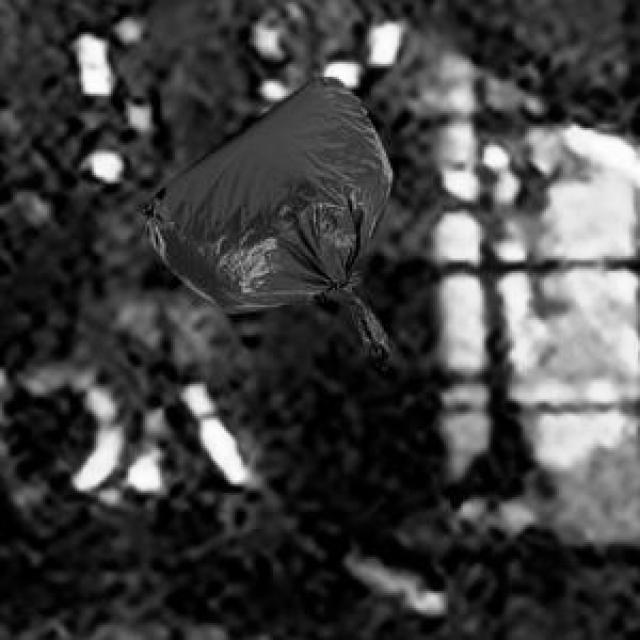miscellaneous trash: (139, 73, 393, 365)
